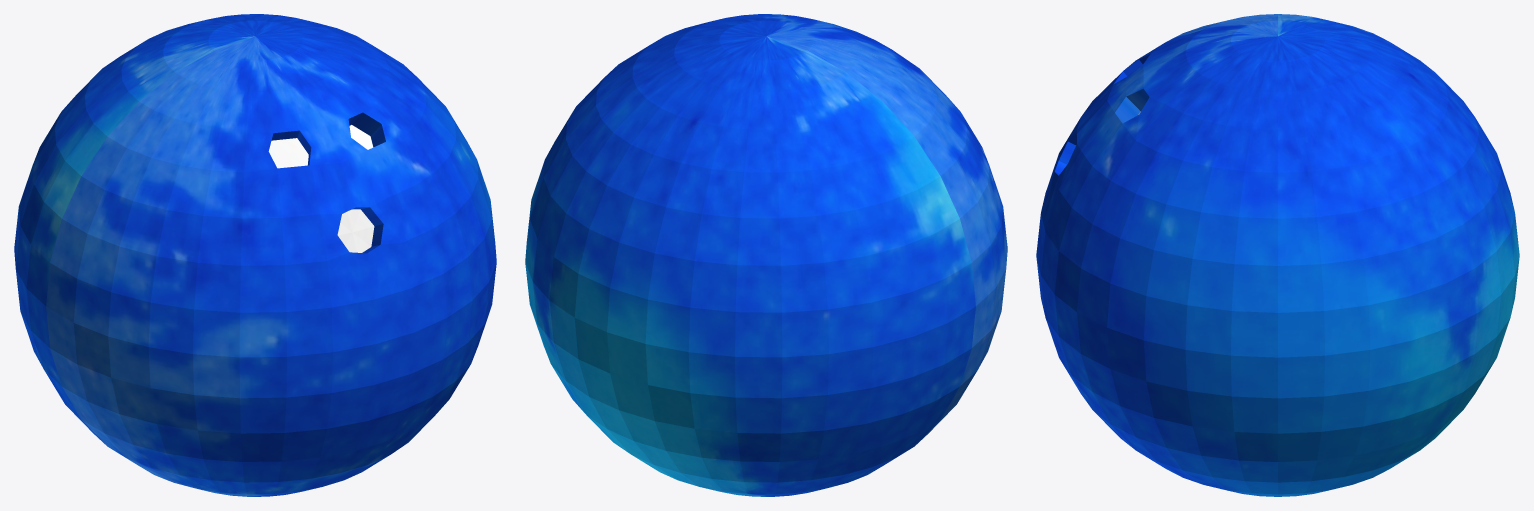
The model's file is ball.dae.
The picture shows the model from 3 angles, left to right: view 1: azimuth 30°, elevation 25°; view 2: azimuth 150°, elevation 25°; view 3: azimuth 270°, elevation 25°; orthographic projection.
Parts seen in each view (by area): view 1: ball; view 2: ball; view 3: ball.
Part boxes in pixels (x1,y1,x2,y2): ball: (14, 14, 496, 496); ball: (525, 14, 1007, 496); ball: (1036, 14, 1519, 496).
Bounding box in the file's own units: 0.2183 × 0.2183 × 0.2183.
1 material, 1 textured.
